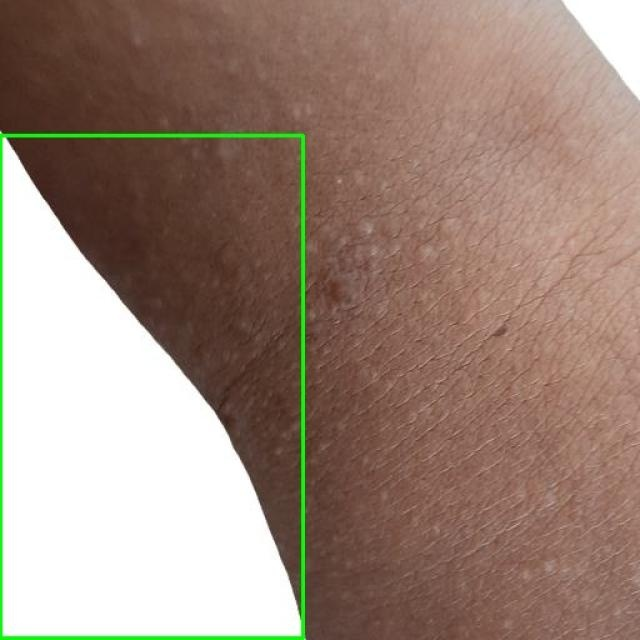Scabies: (0, 135, 304, 639)
